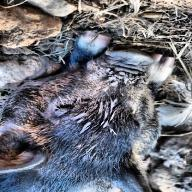boar: (0, 27, 175, 192)
